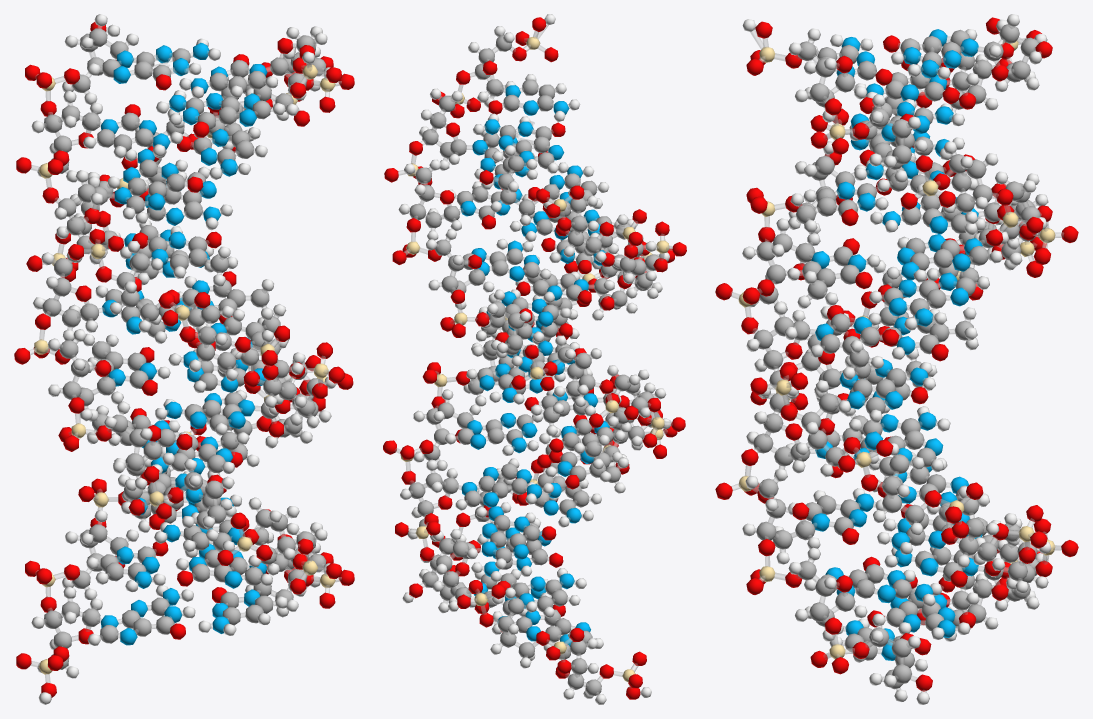
Rendered from adn.fbx.
3 renders of one model, left to right at view 1: azimuth 30°, elevation 25°; view 2: azimuth 150°, elevation 25°; view 3: azimuth 270°, elevation 25°, orthographic. The views are drawn at different scales.
Visible parts, largest first — view 1: adn; view 2: adn; view 3: adn.
Part boxes in pixels (box(x1,y1,x2,y2)): adn: box(14, 14, 354, 704); adn: box(383, 14, 686, 704); adn: box(715, 14, 1078, 704).
Size of the model in its own units: 2056 by 4528 by 2143.
